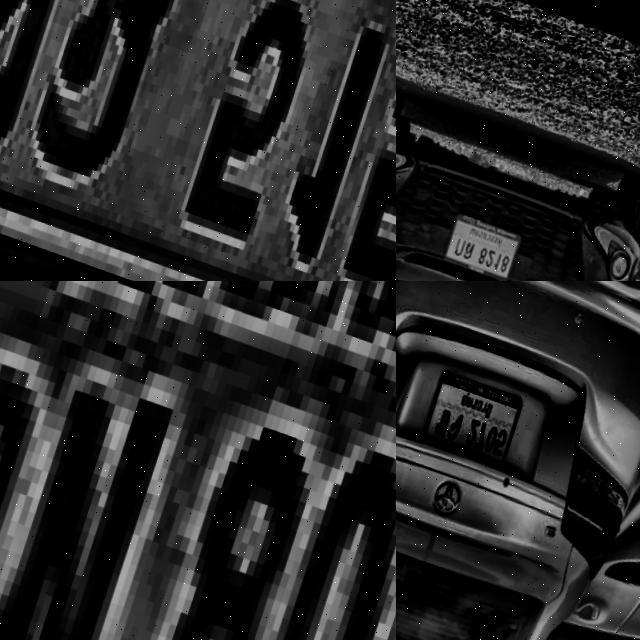license-plate: (0, 281, 396, 640), (0, 0, 396, 281), (417, 354, 535, 471), (441, 195, 531, 281)
